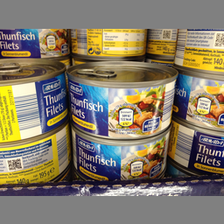fish: (71, 61, 180, 139), (1, 59, 67, 148), (71, 128, 174, 183), (2, 128, 71, 182), (173, 61, 224, 129), (168, 116, 224, 173)
